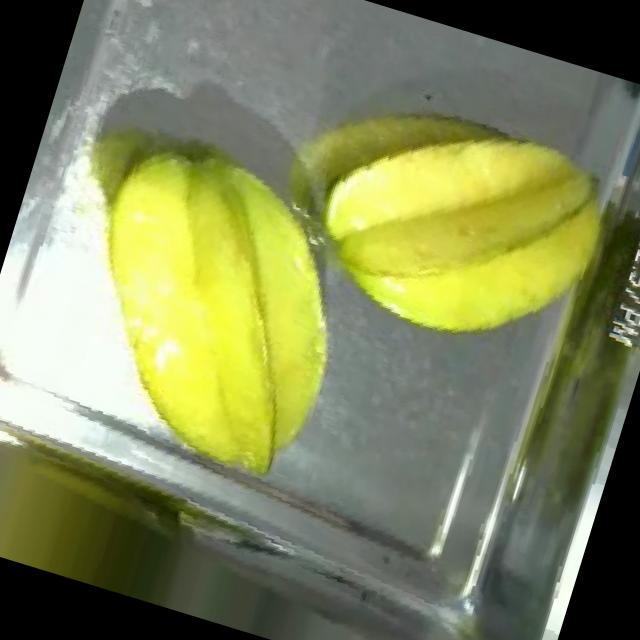fruit: (21, 104, 401, 512), (275, 63, 639, 387)
